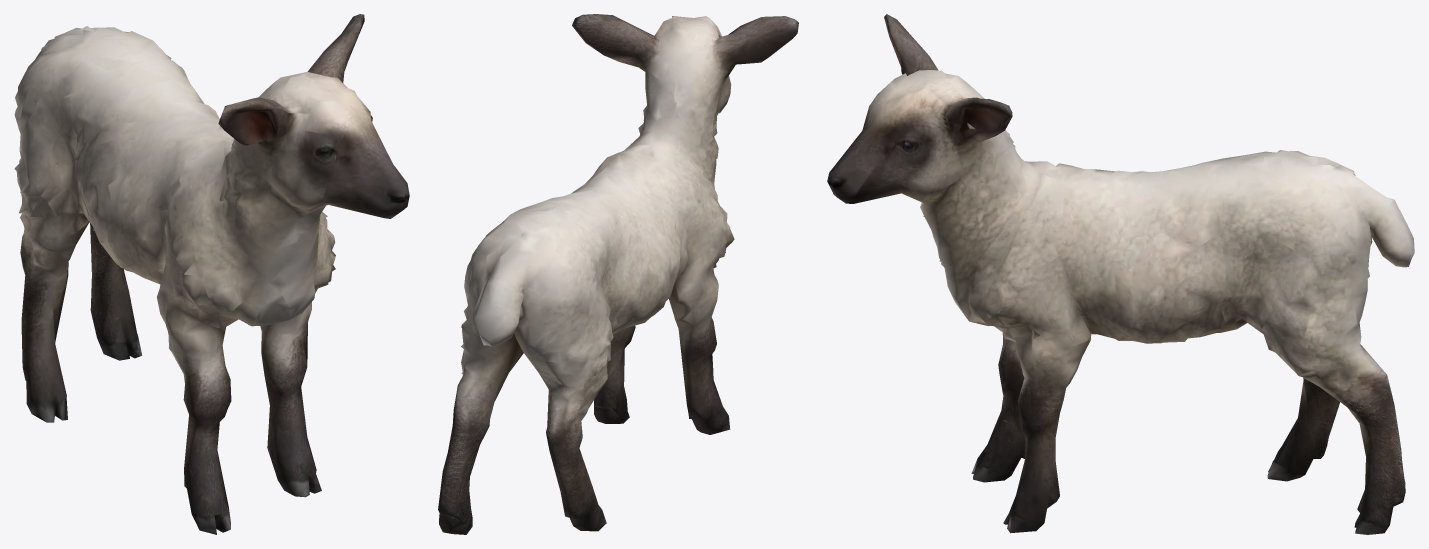
File: animal_lamb.glb
The picture shows the model from 3 angles, left to right: view 1: azimuth 30°, elevation 25°; view 2: azimuth 150°, elevation 25°; view 3: azimuth 270°, elevation 25°; orthographic projection. The views are drawn at different scales.
Visible parts, largest first — view 1: tripo_node_34c52dd1-34d3-4f82-9a71-9687cb19f68c; view 2: tripo_node_34c52dd1-34d3-4f82-9a71-9687cb19f68c; view 3: tripo_node_34c52dd1-34d3-4f82-9a71-9687cb19f68c.
Part boxes in pixels (x1,y1,x2,y2): tripo_node_34c52dd1-34d3-4f82-9a71-9687cb19f68c: (14,14,409,534); tripo_node_34c52dd1-34d3-4f82-9a71-9687cb19f68c: (438,14,798,534); tripo_node_34c52dd1-34d3-4f82-9a71-9687cb19f68c: (827,14,1414,534).
Bounding box in the file's own units: 0.3808 × 0.8232 × 0.9817.
Materials: 1 (1 with a texture image).
